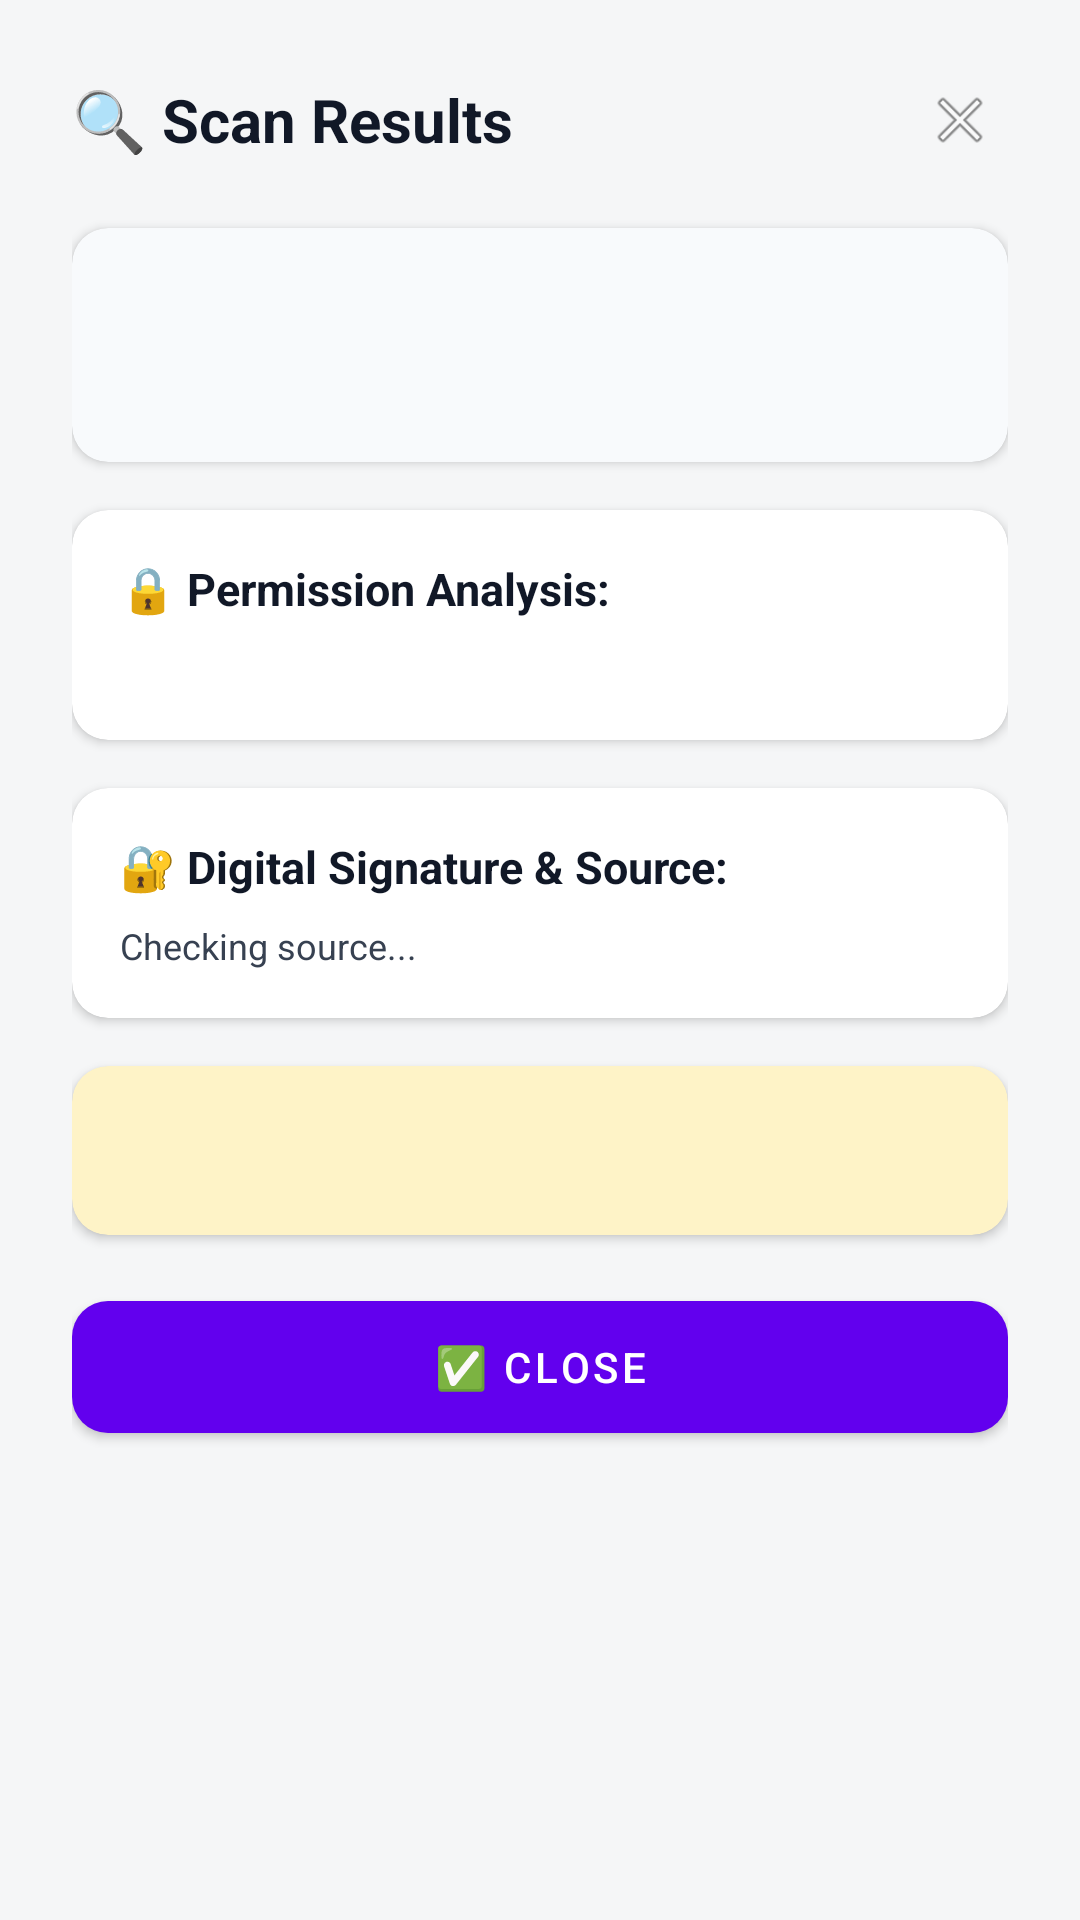

Icon bounding boxes for this 1080px x 1920px phone screenshot, format (x1, y1, x2, y2):
Close: (937, 97, 983, 143)
